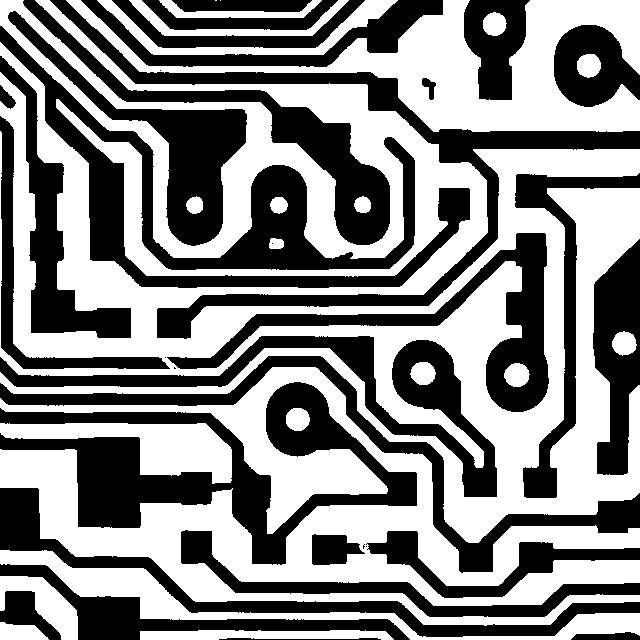copper: (412, 68, 445, 109)
open: (148, 341, 191, 384), (349, 529, 383, 568)
pin-hole: (259, 228, 293, 258)
short: (196, 473, 243, 501)
spur: (323, 242, 362, 272)
